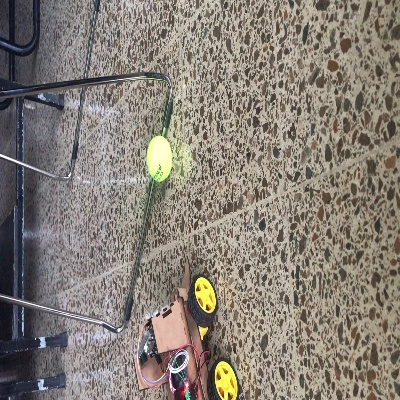Ball: (146, 136, 172, 181)
Robot: (131, 257, 238, 399)
